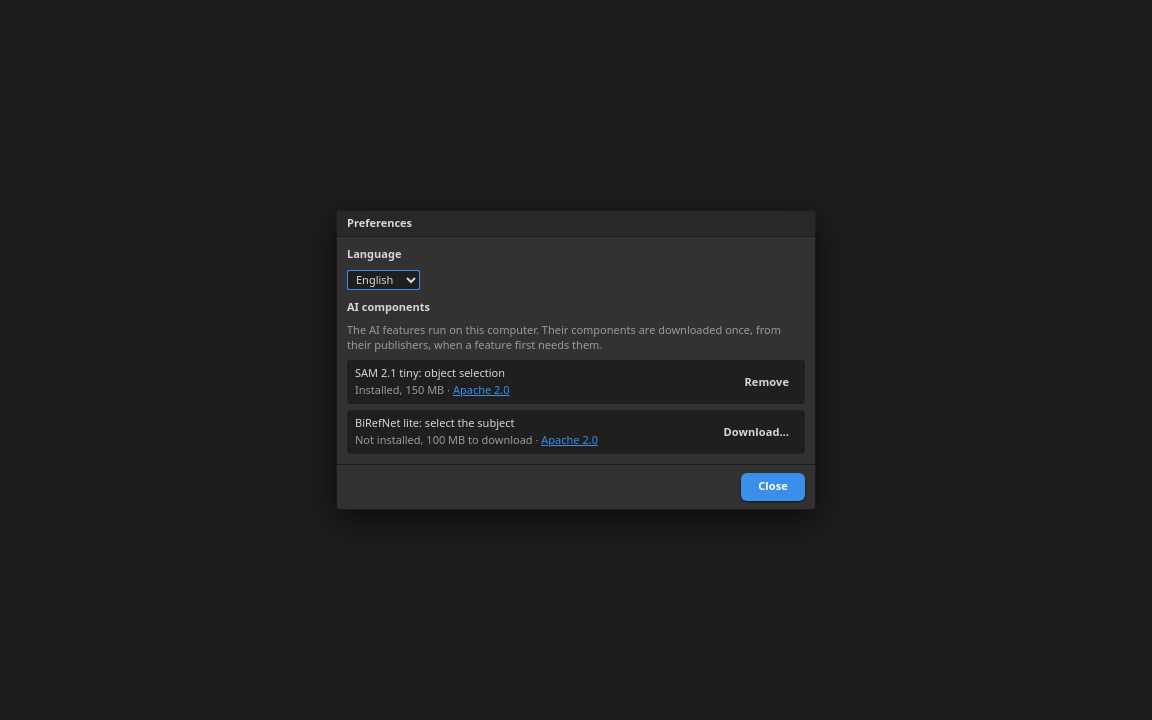
Test: a removal that fails says why and keeps the list
Expected: the text "SAM 2.1 tiny: object selection" is shown, [355, 366, 510, 381]
Click the button "Remove" at [767, 382], box [736, 371, 797, 393]
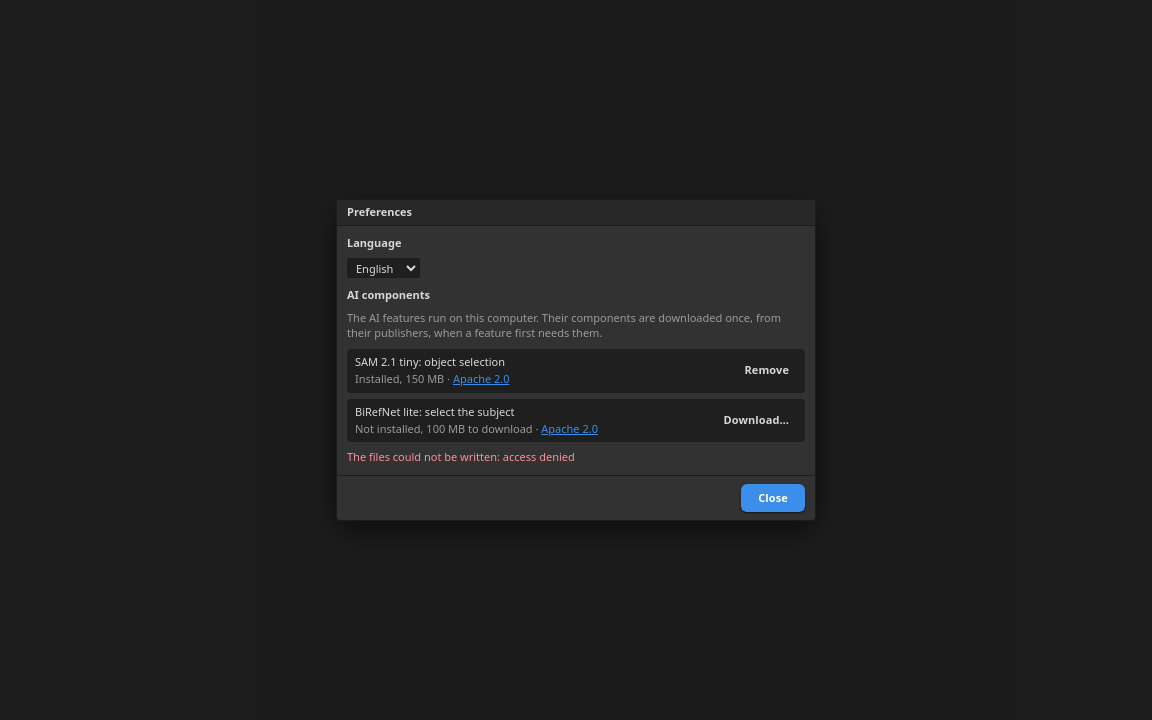
Expected: the text "Installed, 150 MB · Apache 2.0" is shown, [355, 372, 510, 387]
Now the message reads "The files could not be written: access denied", box [347, 449, 575, 464]
